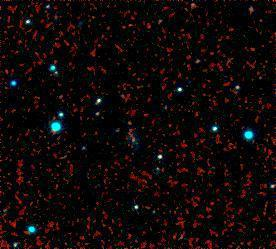star: (115, 110, 145, 140)
